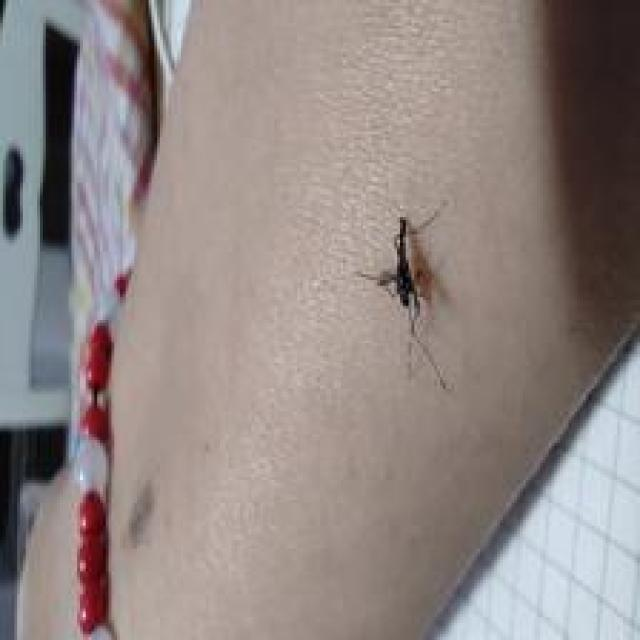Aedes albopictus: (354, 207, 454, 393)
